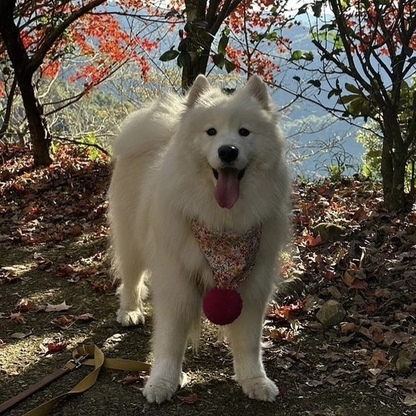samoyed: (98, 65, 311, 409)
